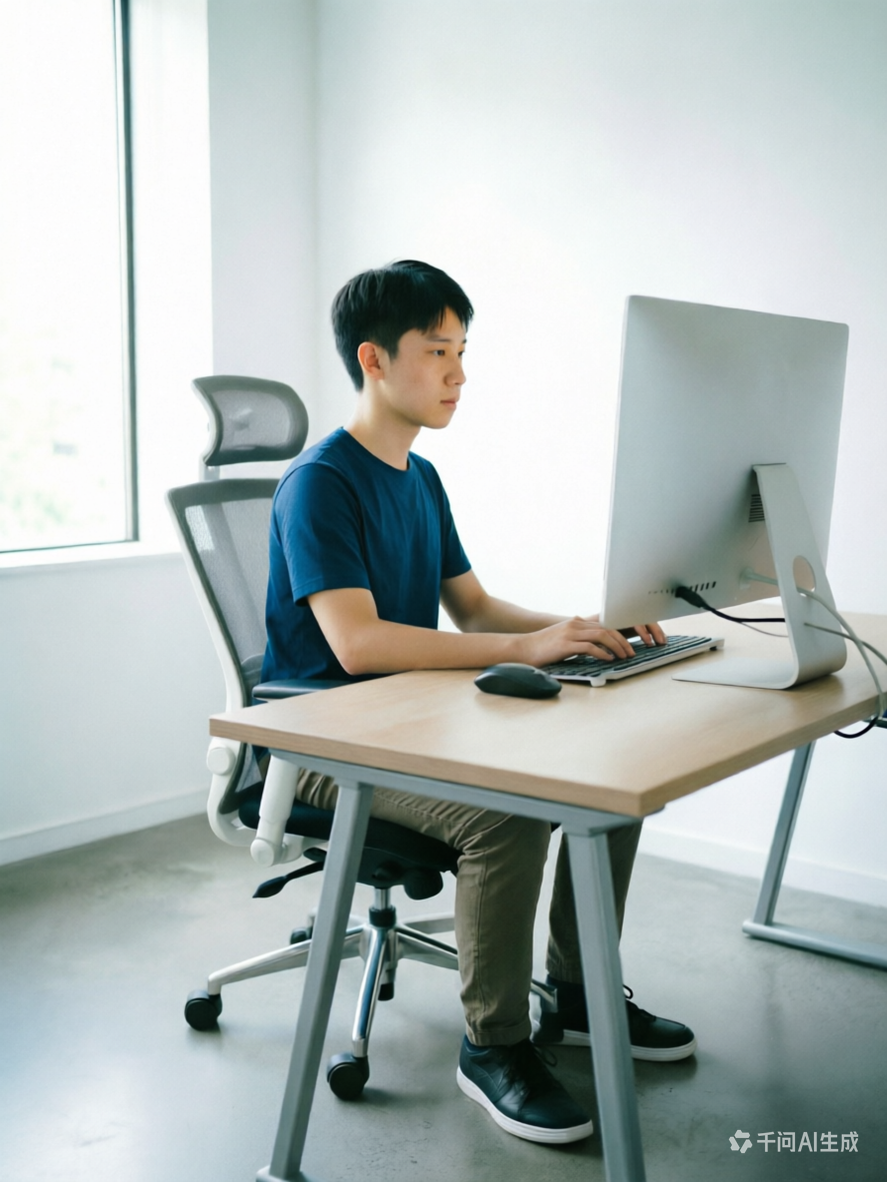sitting_good: (254, 263, 681, 1133)
